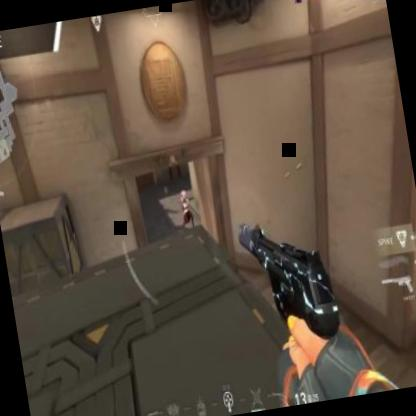enemy: (178, 188, 196, 236)
enemy_head: (180, 190, 186, 200)
